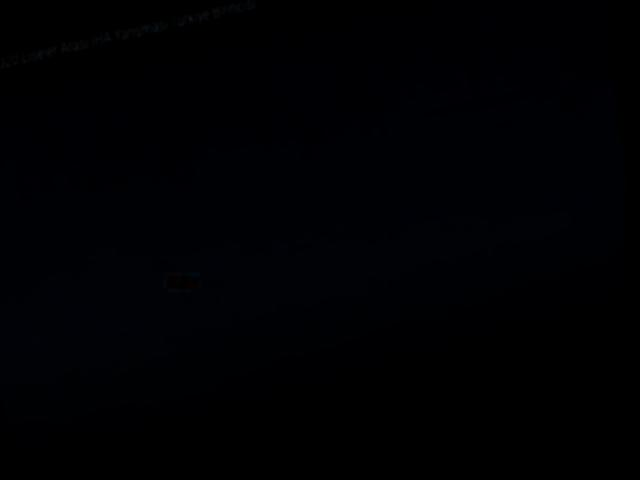insansiz-hava-araci: (166, 270, 206, 298)
